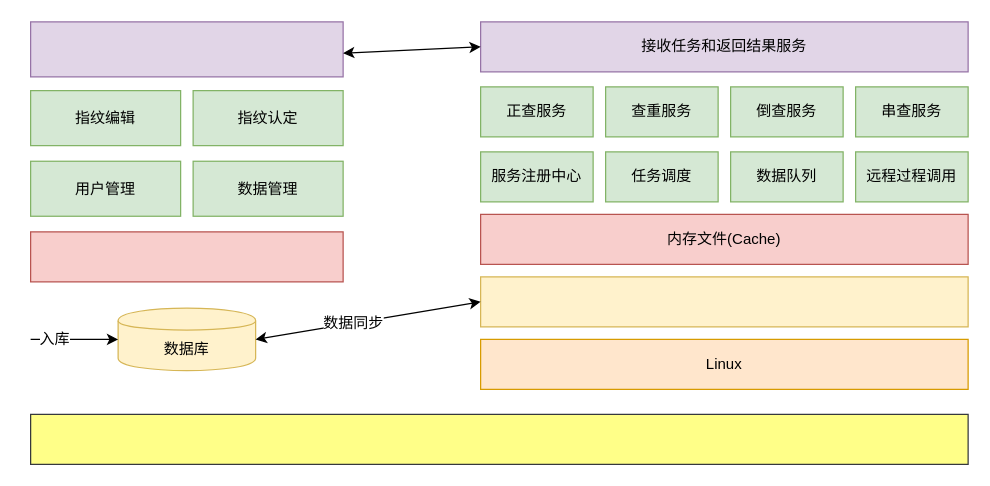
This 990x486 diagram has some shape labels left out. The box of each missing label's shape, as (x1, y1, x2, y2) in pixels:
发查询和收结果服务: (29, 21, 343, 77)
数据库访问: (29, 231, 343, 282)
数据队列：任务存储，简单数据分析（排序），互斥读写（协调） 任务调度：任务切分，结果合并: (29, 413, 968, 464)
特征文件: (479, 276, 968, 327)
